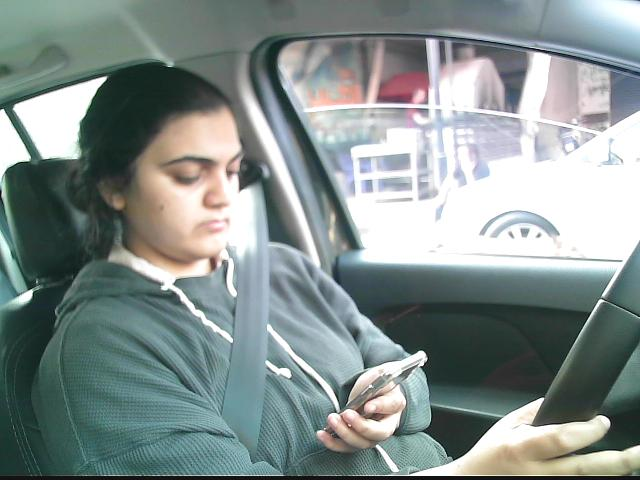PhoneUse: (316, 347, 433, 443)
